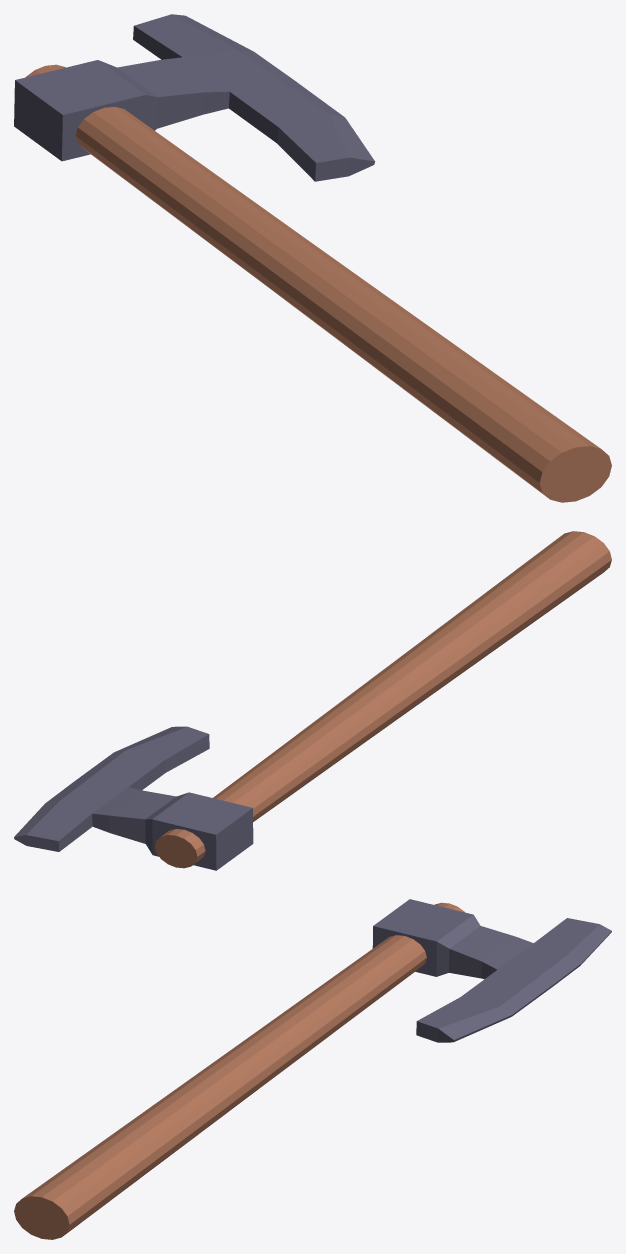
The model's file is Bredbil.fbx.
3 renders of one model, top to bottom at view 1: azimuth 30°, elevation 25°; view 2: azimuth 150°, elevation 25°; view 3: azimuth 330°, elevation 25°, orthographic. The views are drawn at different scales.
Visible parts, largest first — view 1: Bredbil; view 2: Bredbil; view 3: Bredbil.
Boxes of the visible parts, bbox=[...] form: Bredbil: bbox=[14, 14, 611, 502]; Bredbil: bbox=[14, 531, 611, 870]; Bredbil: bbox=[14, 899, 611, 1239].
Bounding box in the file's own units: 311 × 69.26 × 1313.
